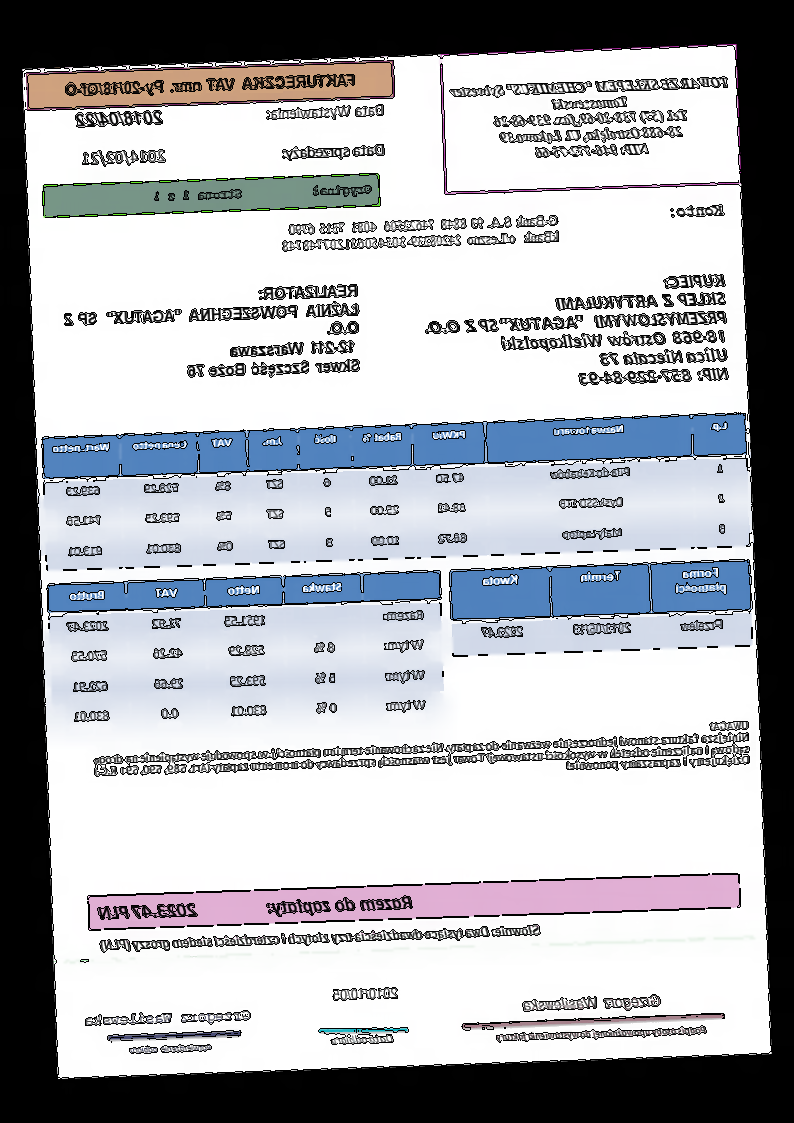Table: (41, 412, 752, 572), (46, 569, 447, 735), (450, 559, 754, 657)
TextBox: (91, 716, 753, 791), (420, 270, 733, 394), (60, 280, 363, 386), (449, 71, 734, 166), (94, 919, 544, 956), (280, 210, 564, 257), (94, 887, 418, 926), (64, 69, 361, 98), (152, 179, 374, 206), (493, 1020, 711, 1045), (83, 1005, 256, 1029), (520, 988, 664, 1015), (265, 100, 386, 123), (280, 139, 387, 163), (73, 105, 168, 132), (78, 145, 169, 171), (126, 1038, 215, 1059), (331, 982, 402, 1005), (669, 200, 727, 220), (328, 1029, 396, 1046)
